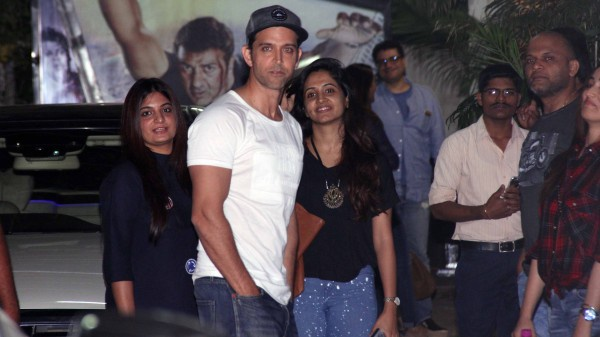bad: (515, 38, 567, 90), (170, 49, 222, 101), (250, 32, 302, 84), (136, 98, 180, 142), (299, 79, 343, 122), (481, 82, 517, 118)
